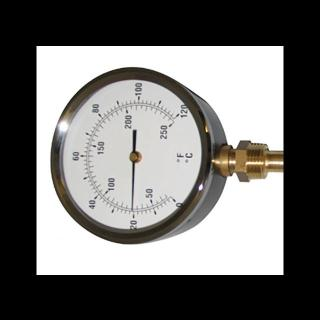gauge: (36, 45, 230, 273), (162, 105, 190, 135), (163, 188, 185, 209), (128, 150, 142, 162), (127, 201, 138, 212)
